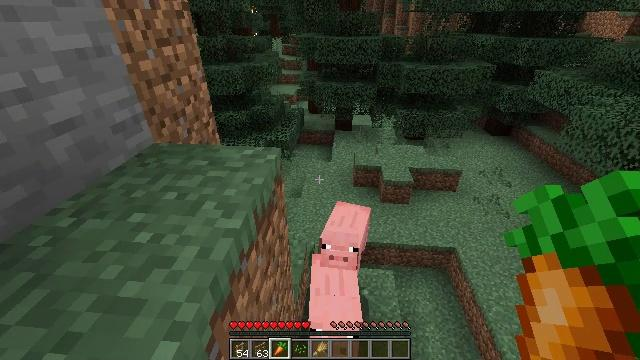pig: (310, 255, 362, 339), (322, 201, 371, 268)
